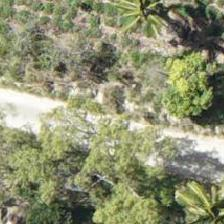coconut_tree: (103, 0, 193, 53), (174, 166, 223, 223)
